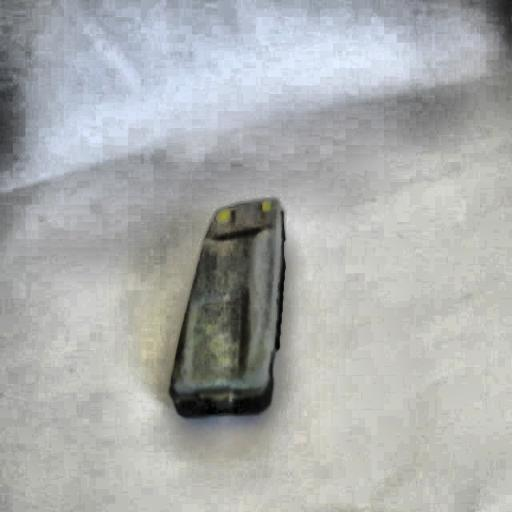normal_car: (164, 195, 288, 421)
